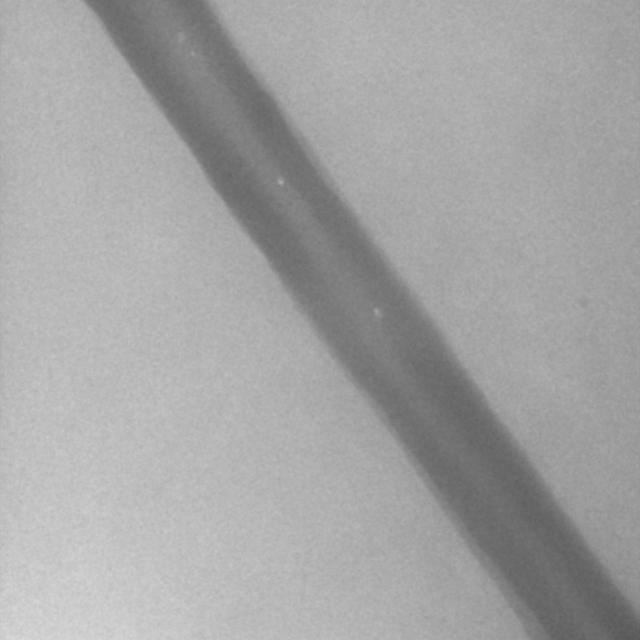air-hole: (372, 306, 384, 318), (278, 172, 285, 187), (176, 33, 183, 43), (193, 54, 195, 60)
